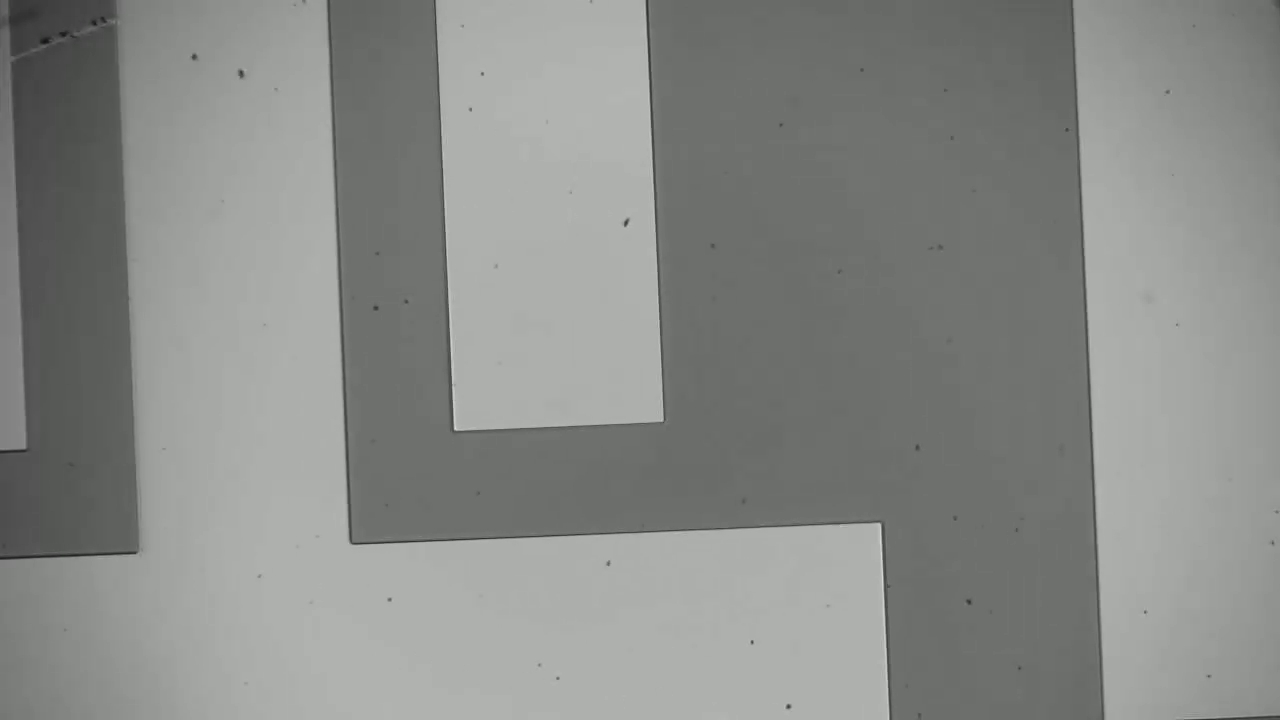scratch: (11, 22, 113, 56)
